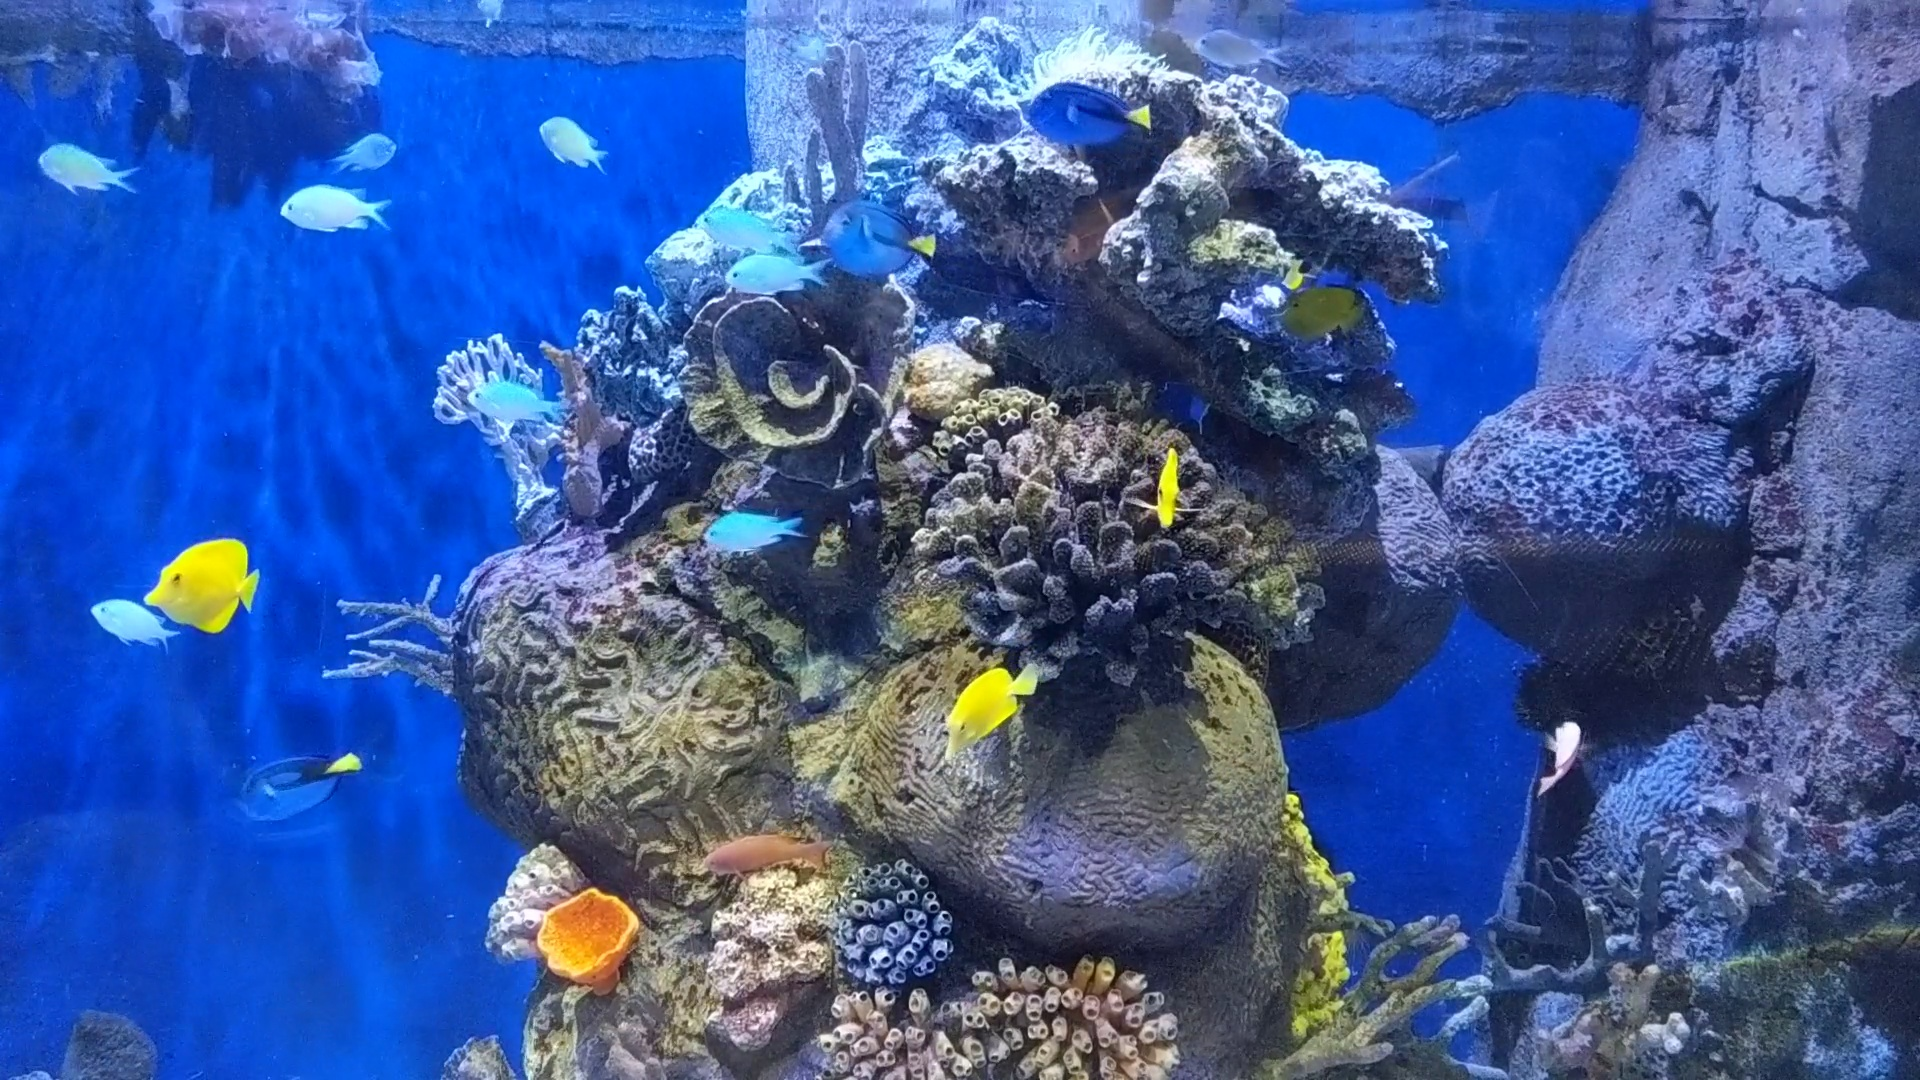blue tang surgeonfish: (216, 736, 371, 835), (791, 199, 951, 282), (1013, 67, 1155, 156)
damselfish: (512, 87, 630, 187), (448, 363, 576, 446), (691, 488, 815, 568), (266, 171, 394, 241), (22, 131, 138, 207), (83, 584, 189, 666), (684, 191, 799, 266), (713, 245, 822, 302), (322, 113, 411, 175), (1178, 32, 1288, 73)
pink fish: (1513, 713, 1590, 789)
saddle butterfly fish: (121, 530, 278, 638), (913, 655, 1043, 760), (1265, 280, 1370, 349), (1133, 444, 1191, 530)
